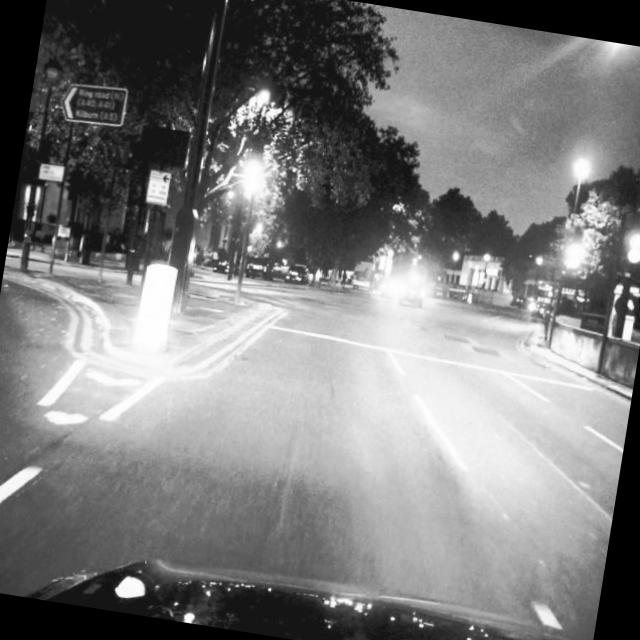Light: (245, 138, 267, 194), (626, 213, 640, 266), (566, 231, 584, 270)
Sign: (58, 80, 129, 130), (137, 124, 192, 169), (145, 168, 172, 206)
